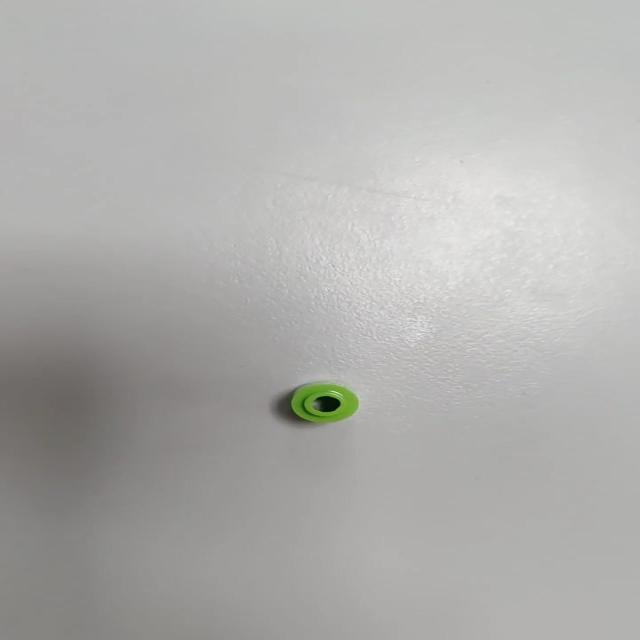S1x1x1: (280, 379, 362, 425)
